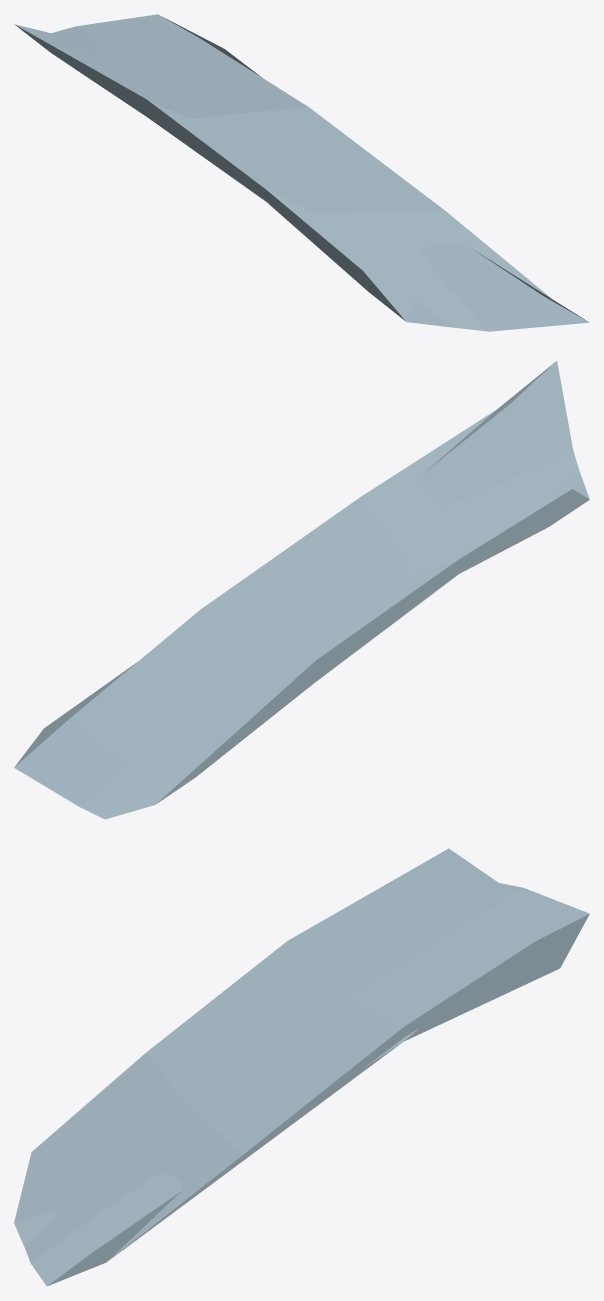
File: su33d_stab_right.glb
The picture shows the model from 3 angles, top to bottom: view 1: azimuth 30°, elevation 25°; view 2: azimuth 150°, elevation 25°; view 3: azimuth 330°, elevation 25°; orthographic projection. The views are drawn at different scales.
Visible parts, largest first — view 1: 0_StabRight; view 2: 0_StabRight; view 3: 0_StabRight.
Boxes of the visible parts, <box> form: 0_StabRight: <box>14,14,589,331</box>; 0_StabRight: <box>14,361,589,819</box>; 0_StabRight: <box>14,848,589,1286</box>.
Size of the model in its own units: 0.6636 by 0.2097 by 3.46.
